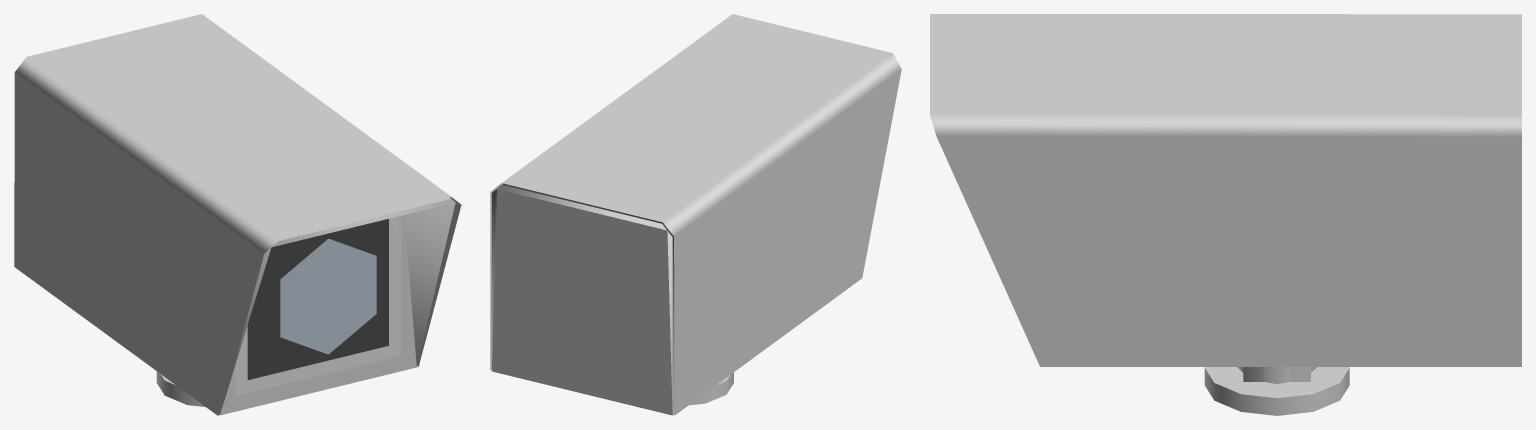
Rendered from s_camera_light1.dae.
3 views of the same model, side by side, from view 1: azimuth 30°, elevation 25°; view 2: azimuth 150°, elevation 25°; view 3: azimuth 270°, elevation 25° (orthographic). The views are drawn at different scales.
Parts seen in each view (by area): view 1: s_camera_light_a_L100, s_camera_light_a_L15; view 2: s_camera_light_a_L100, s_camera_light_a_L15; view 3: s_camera_light_a_L100, s_camera_light_a_L15.
Part boxes in pixels (x1,y1,x2,y2): s_camera_light_a_L100: (14,14,461,415); s_camera_light_a_L15: (220,199,455,415); s_camera_light_a_L100: (490,14,901,415); s_camera_light_a_L15: (492,185,672,415); s_camera_light_a_L100: (930,14,1521,415); s_camera_light_a_L15: (1243,367,1310,381).
Bounding box in the file's own units: 0.2274 × 0.4918 × 0.2947.
